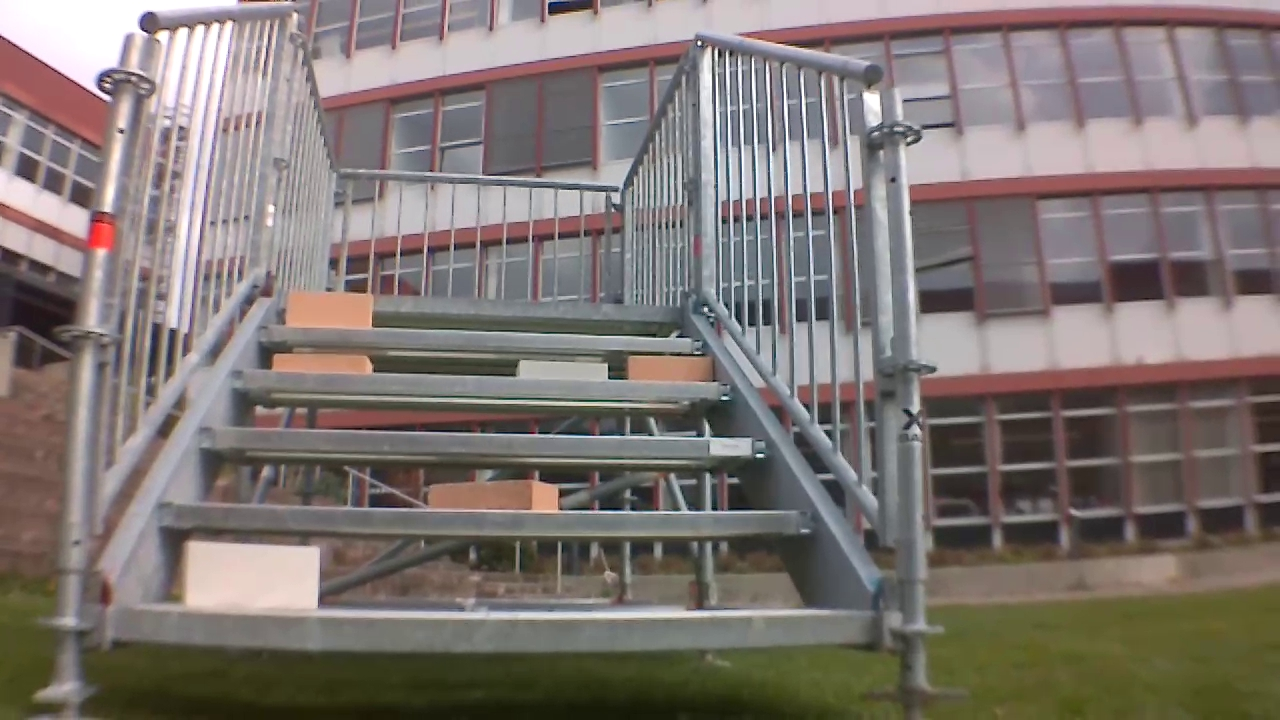brick: (180, 540, 328, 611), (426, 477, 560, 512), (281, 290, 374, 328), (265, 354, 380, 376), (628, 355, 722, 380), (513, 360, 610, 382)
edge: (109, 606, 887, 650), (168, 508, 814, 534), (225, 374, 734, 402), (190, 431, 769, 448), (257, 329, 707, 349), (273, 298, 687, 315)
stairs: (57, 0, 939, 694)
steps: (93, 289, 887, 647)
